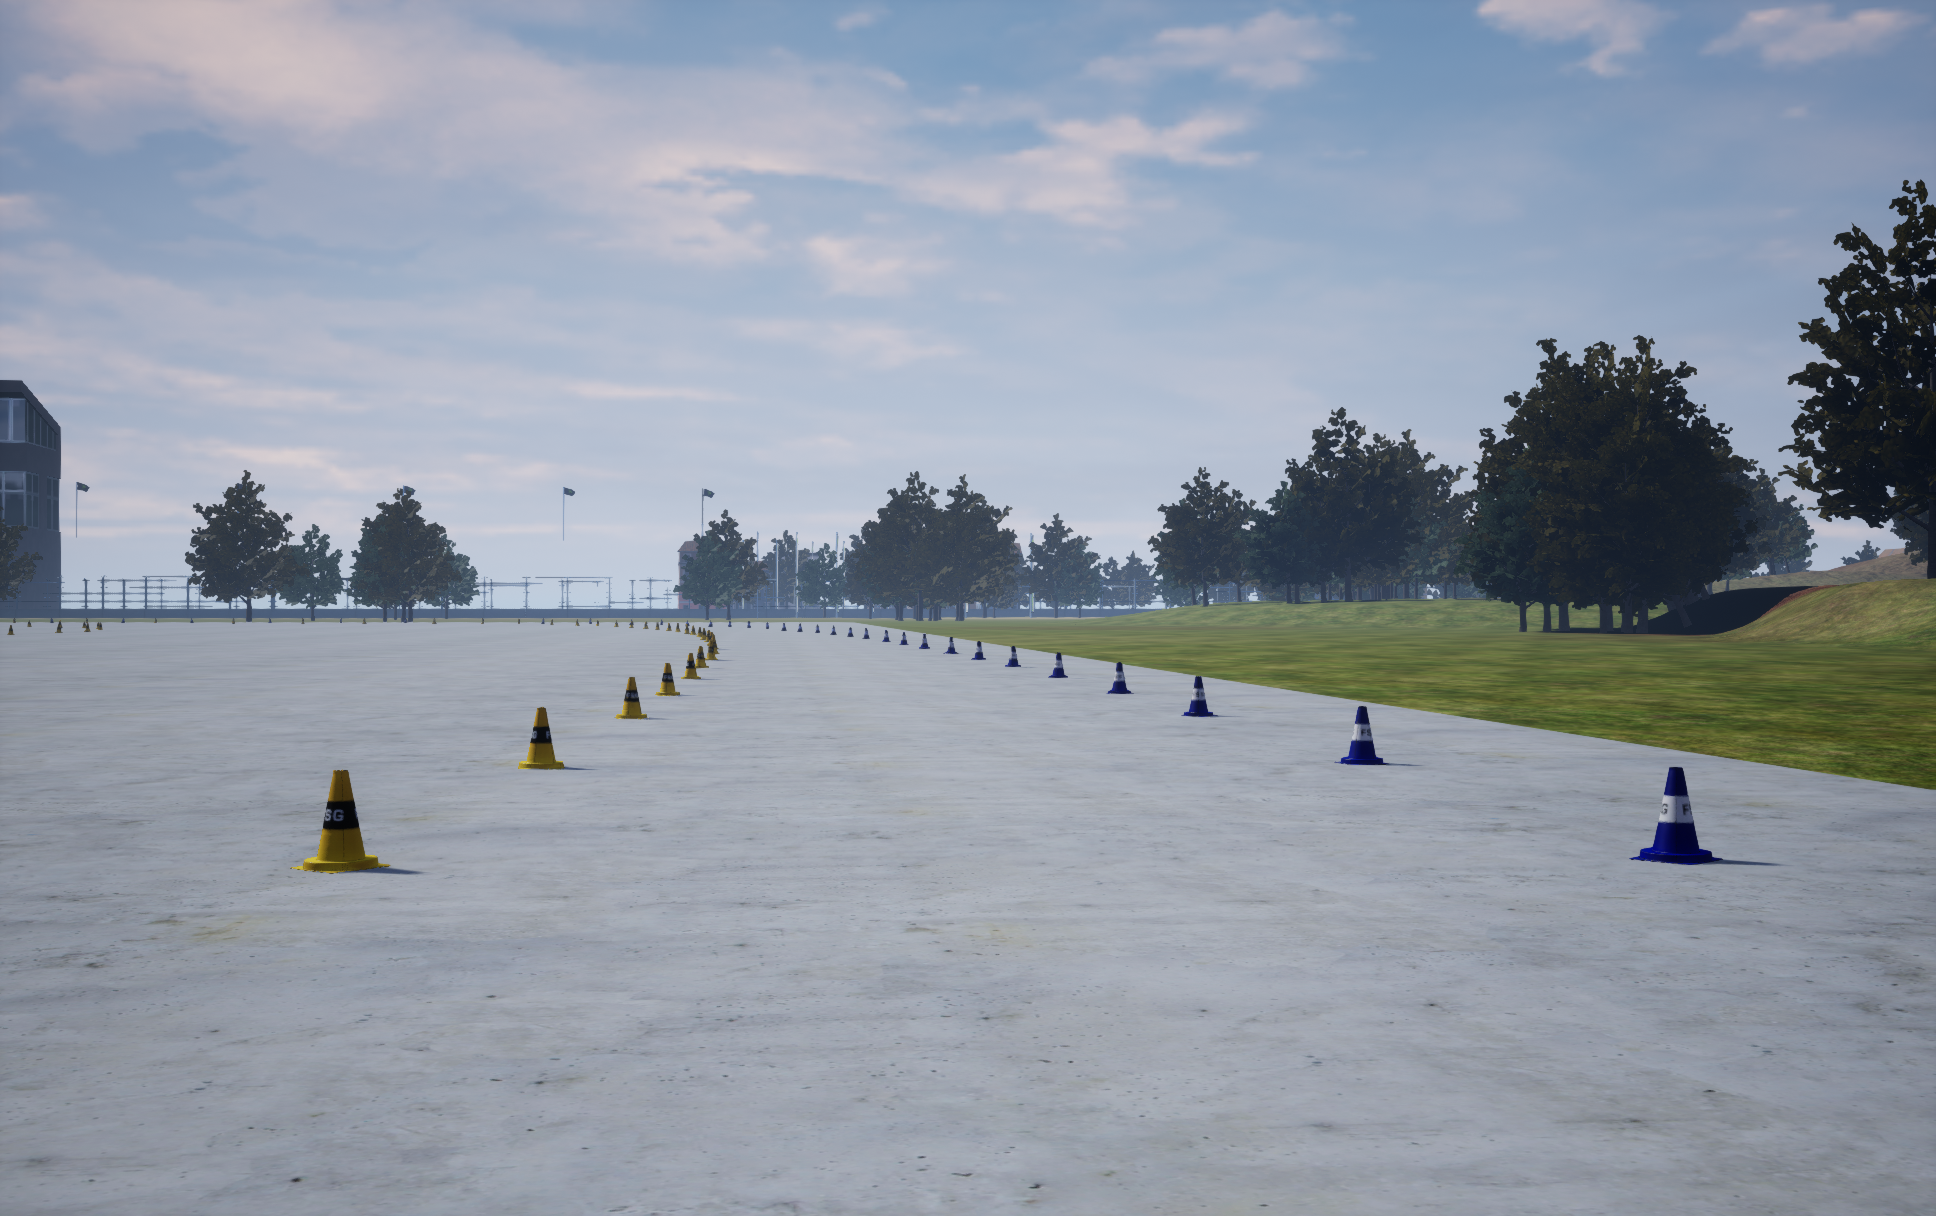blue: (290, 771, 389, 873), (518, 707, 565, 768), (614, 677, 649, 719), (656, 663, 679, 695), (681, 653, 700, 678), (695, 646, 707, 667), (705, 642, 717, 658)
yellow: (1629, 766, 1722, 864), (1334, 706, 1388, 764), (1181, 677, 1217, 716), (1107, 663, 1133, 693), (1048, 651, 1067, 677), (1004, 646, 1020, 665), (971, 642, 985, 658)
